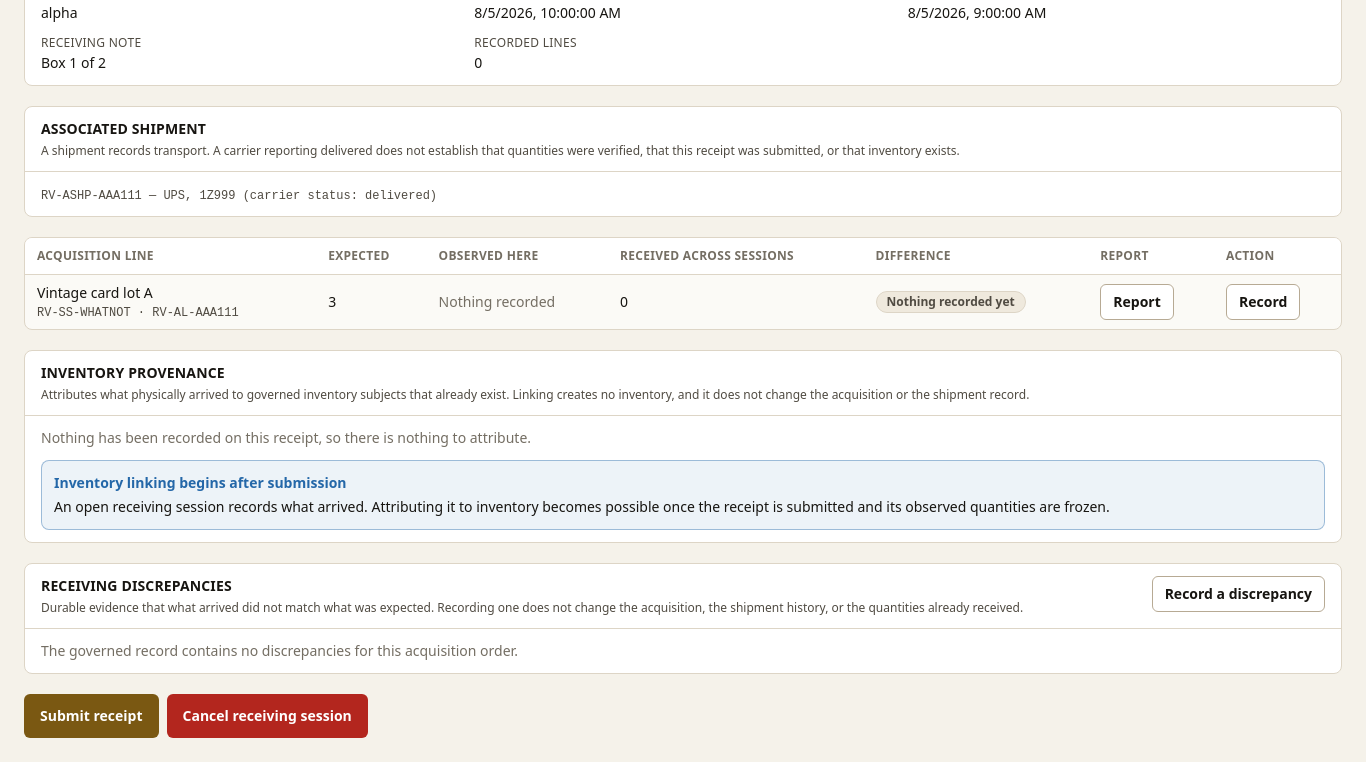
Test: cancelling a receiving session › requires a reason
The width and height of the screenshot is (1366, 762).
(page scrolled)
Expected: the text "Vintage card lot A" is shown, [37, 283, 153, 302]
Click the button "Cancel receiving session" at (267, 716), box [166, 694, 368, 738]
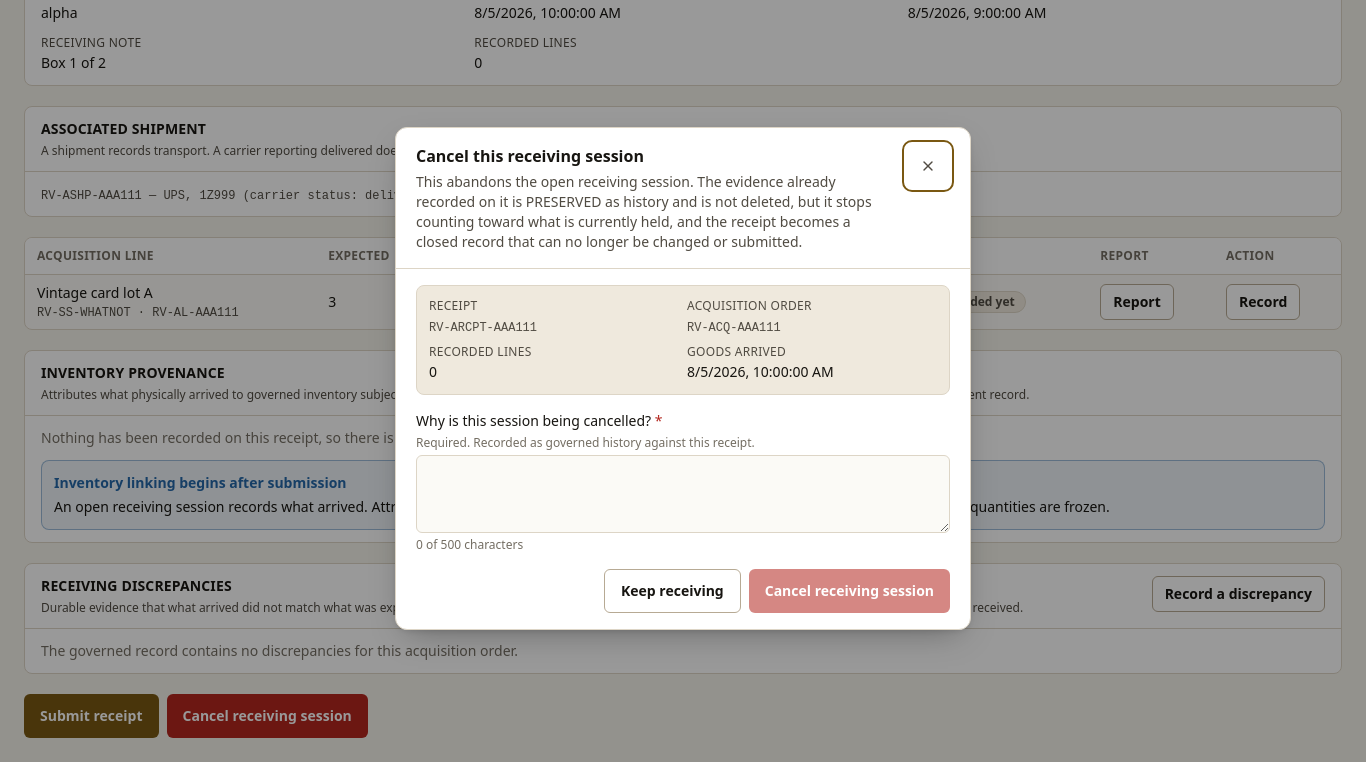
Now the button "Cancel receiving session" is disabled, box [749, 568, 950, 612]
